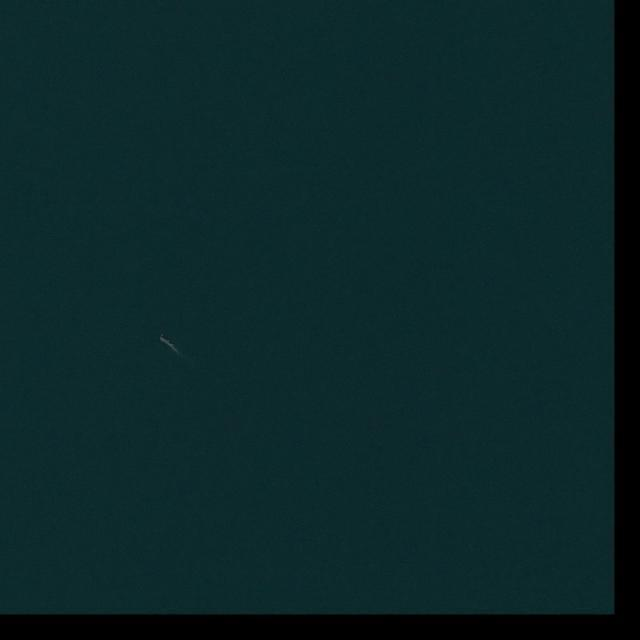ship: (158, 335, 171, 347)
